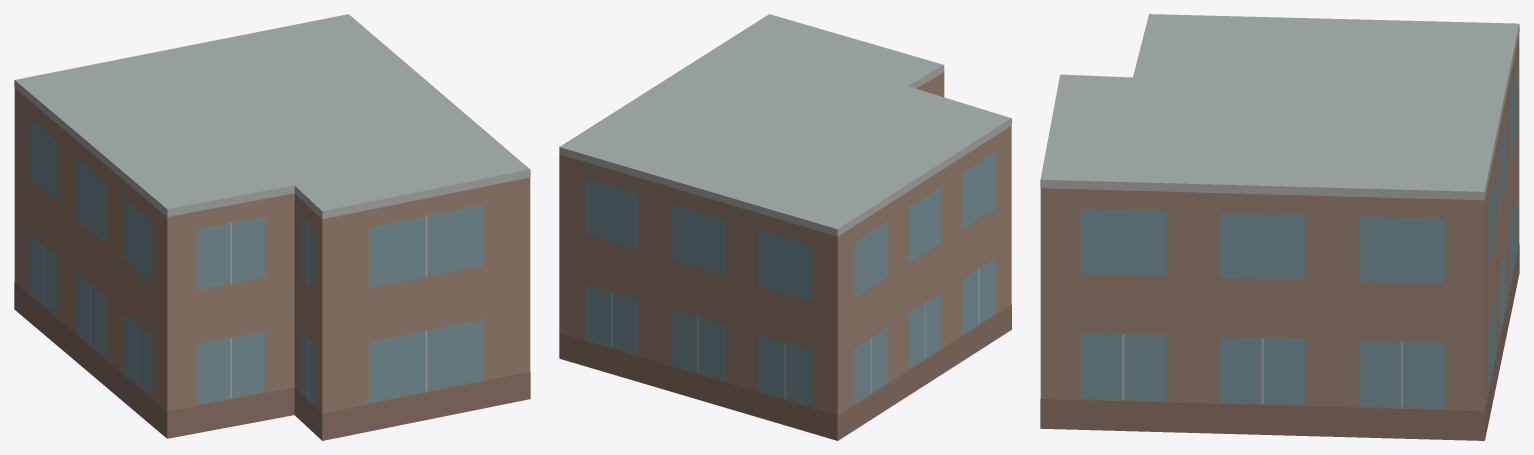
Rendered from survey-upis-33018672.glb.
3 renders of one model, left to right at view 1: azimuth 30°, elevation 25°; view 2: azimuth 150°, elevation 25°; view 3: azimuth 270°, elevation 25°, orthographic. The views are drawn at different scales.
Parts seen in each view (by area): view 1: survey-upis-33018672.tmp; view 2: survey-upis-33018672.tmp; view 3: survey-upis-33018672.tmp.
Part boxes in pixels (bbox=[...]): survey-upis-33018672.tmp: bbox=[14, 14, 530, 440]; survey-upis-33018672.tmp: bbox=[559, 14, 1011, 440]; survey-upis-33018672.tmp: bbox=[1040, 14, 1519, 440].
Size of the model in its own units: 11.05 by 7.2 by 12.57.
